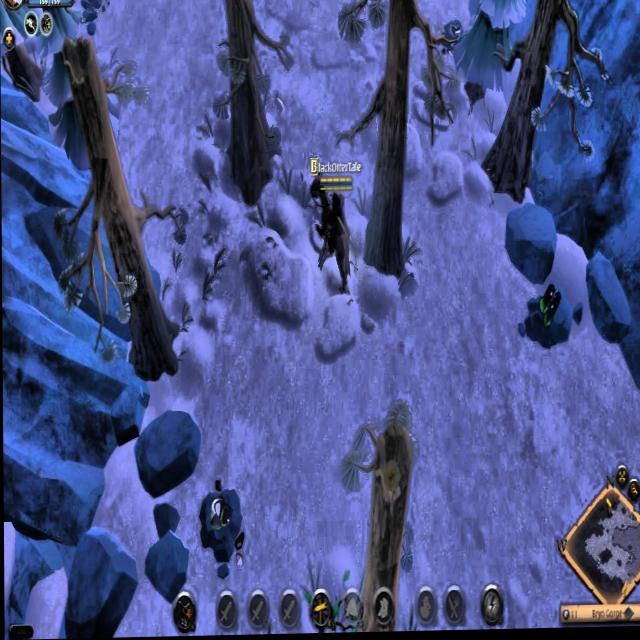tinore: (530, 282, 572, 349)
